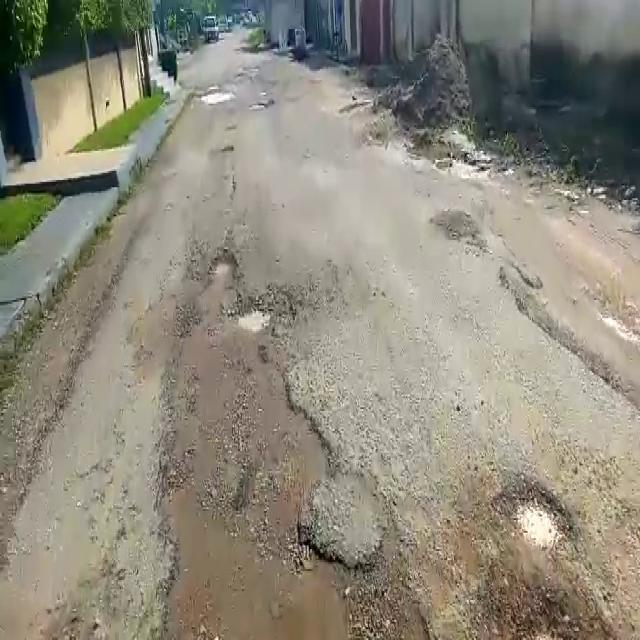pothole: (477, 565, 624, 640), (494, 472, 577, 552), (230, 293, 289, 344), (205, 248, 241, 286), (198, 88, 237, 105)
